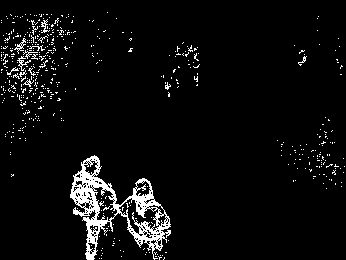person: (74, 154, 119, 260), (127, 177, 173, 260)
